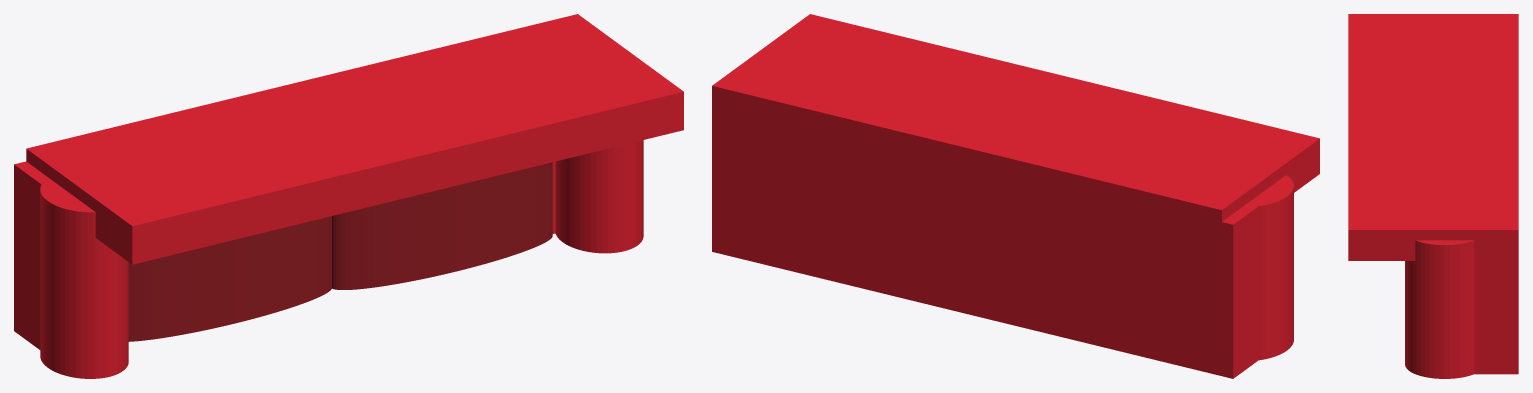
File: tinker.obj
3 renders of one model, left to right at view 1: azimuth 30°, elevation 25°; view 2: azimuth 150°, elevation 25°; view 3: azimuth 270°, elevation 25°, orthographic. The views are drawn at different scales.
Parts seen in each view (by area): view 1: obj_5, obj_4, obj_3, obj_2, obj_1, obj_0; view 2: obj_0, obj_5, obj_2; view 3: obj_5, obj_1, obj_0.
Part boxes in pixels (x1,y1,x2,y2): obj_5: (26, 14, 683, 264); obj_4: (332, 162, 552, 289); obj_3: (128, 216, 331, 341); obj_2: (40, 179, 128, 378); obj_1: (555, 140, 643, 253); obj_0: (14, 161, 555, 349); obj_0: (712, 98, 1265, 378); obj_5: (712, 14, 1319, 242); obj_2: (1244, 175, 1293, 360); obj_5: (1348, 14, 1518, 260); obj_1: (1405, 240, 1474, 378); obj_0: (1474, 240, 1518, 374).
Size of the model in its own units: 48 by 14 by 15.
